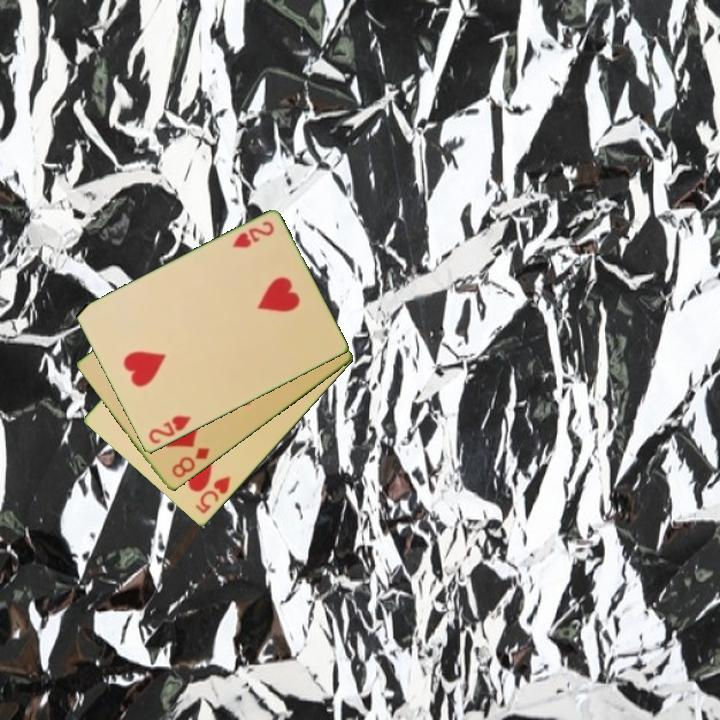2h: (145, 412, 194, 447), (229, 218, 277, 251)
5h: (192, 473, 234, 517)
8d: (168, 444, 213, 481)
